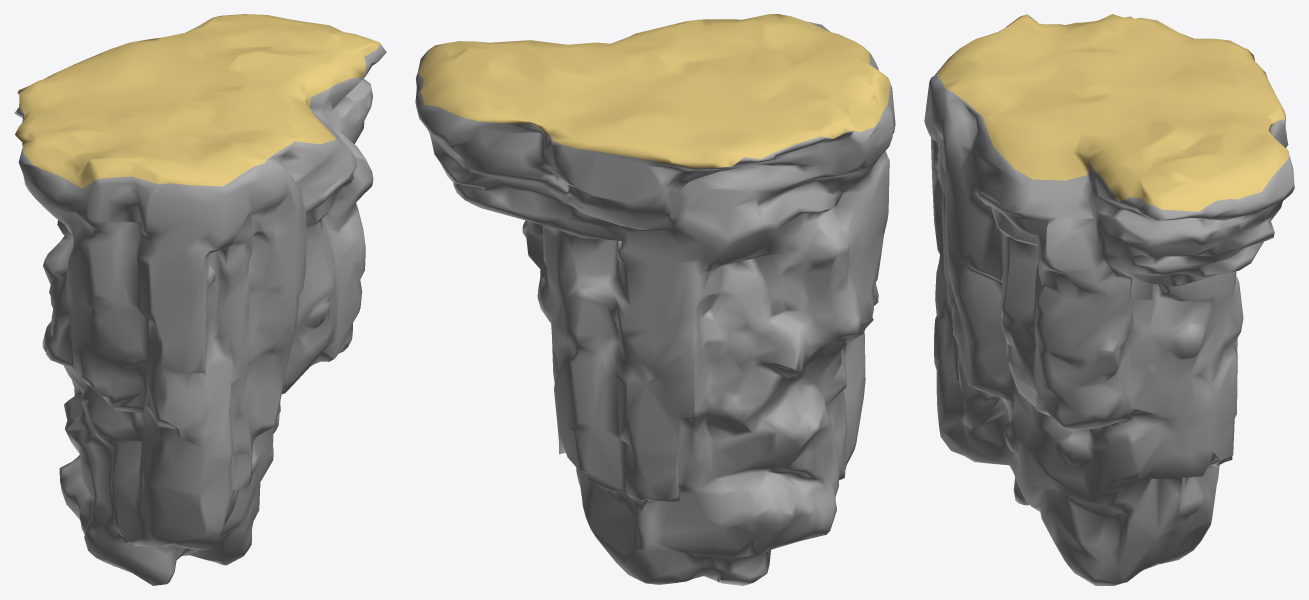
The model's file is fbx_island_03.fbx.
3 views of the same model, side by side, from view 1: azimuth 30°, elevation 25°; view 2: azimuth 150°, elevation 25°; view 3: azimuth 270°, elevation 25° (orthographic). The views are drawn at different scales.
Visible parts, largest first — view 1: Group41996; view 2: Group41996; view 3: Group41996.
Part boxes in pixels (x1,y1,x2,y2): Group41996: (14, 14, 386, 585); Group41996: (415, 14, 895, 585); Group41996: (924, 14, 1294, 585).
Bounding box in the file's own units: 2.41 × 2.75 × 1.93.
